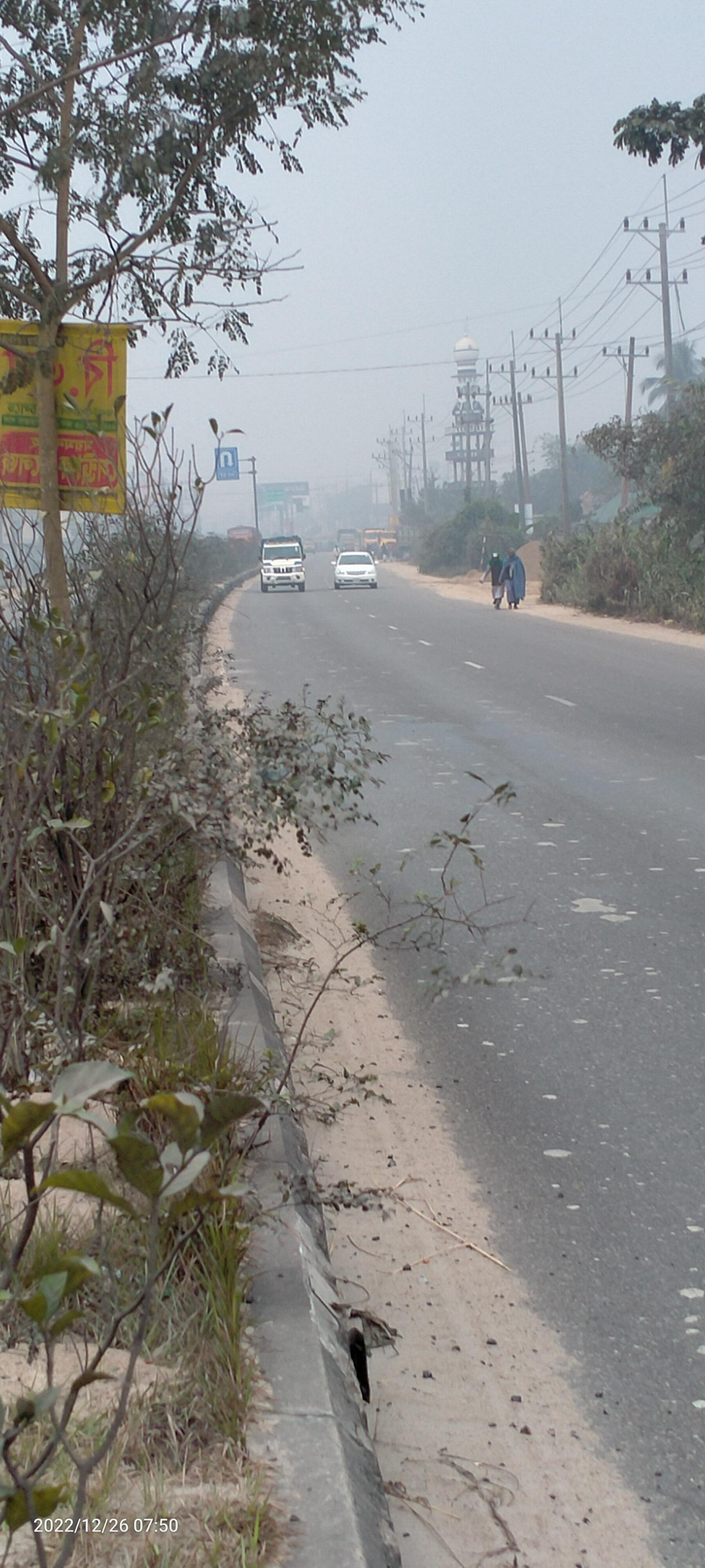Car: (327, 548, 386, 595)
Truck: (257, 534, 307, 594)
